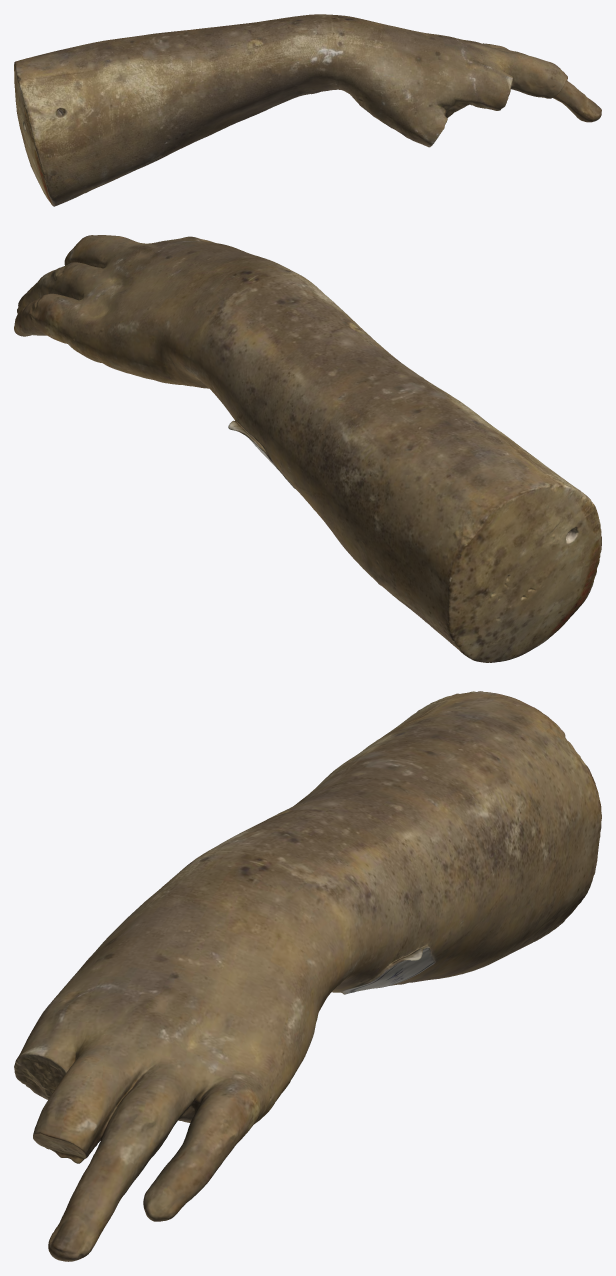
File: life-cast-of-left-forearm-and-hand-150k-1024-low.glb
3 views of the same model, one above another, from view 1: azimuth 30°, elevation 25°; view 2: azimuth 150°, elevation 25°; view 3: azimuth 270°, elevation 25° (orthographic). The views are drawn at different scales.
Bounding box in the file's own units: 11.97 × 3.89 × 6.77.
1 material, 1 textured.
